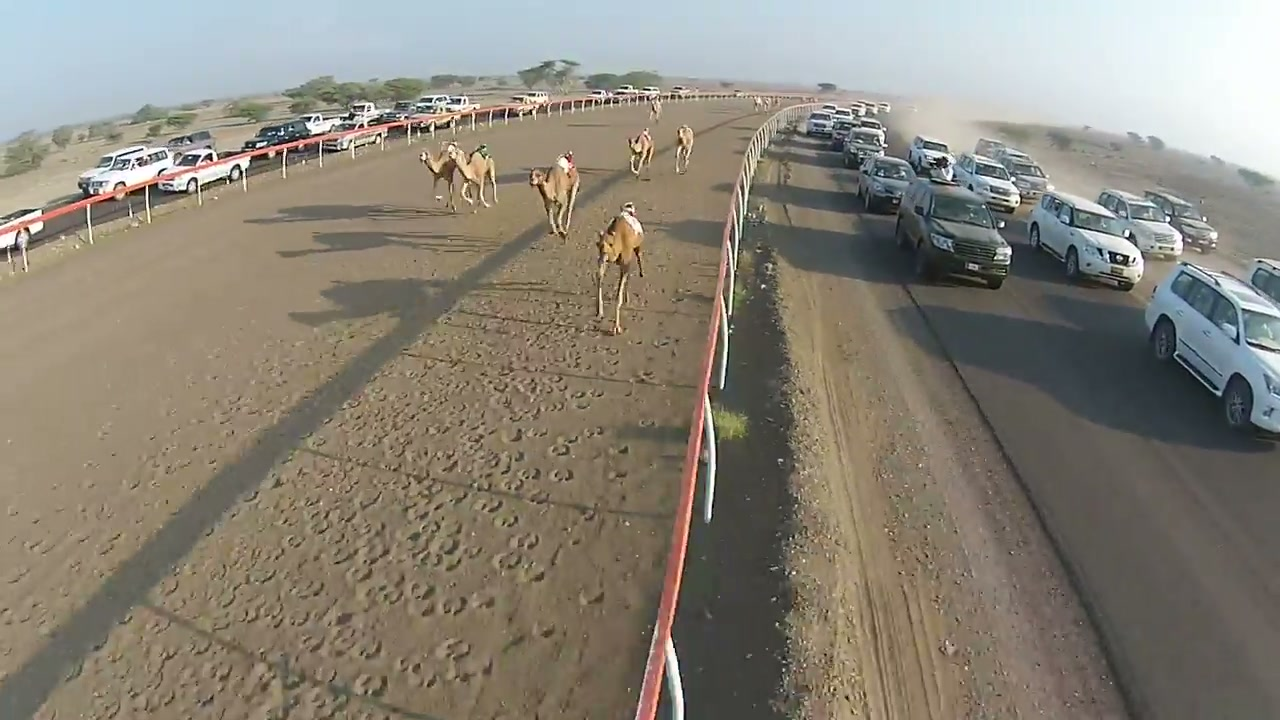animal_foot_print: (118, 335, 665, 719), (394, 657, 438, 687), (351, 673, 388, 697), (434, 638, 471, 661), (491, 550, 525, 572), (429, 535, 461, 555), (515, 561, 545, 582), (437, 596, 468, 615), (468, 589, 496, 610), (508, 532, 540, 550), (472, 495, 503, 513), (569, 390, 592, 410), (578, 588, 604, 604), (547, 442, 572, 458), (495, 511, 518, 528), (501, 476, 524, 493), (516, 467, 541, 482), (549, 468, 573, 482), (528, 489, 550, 504)
